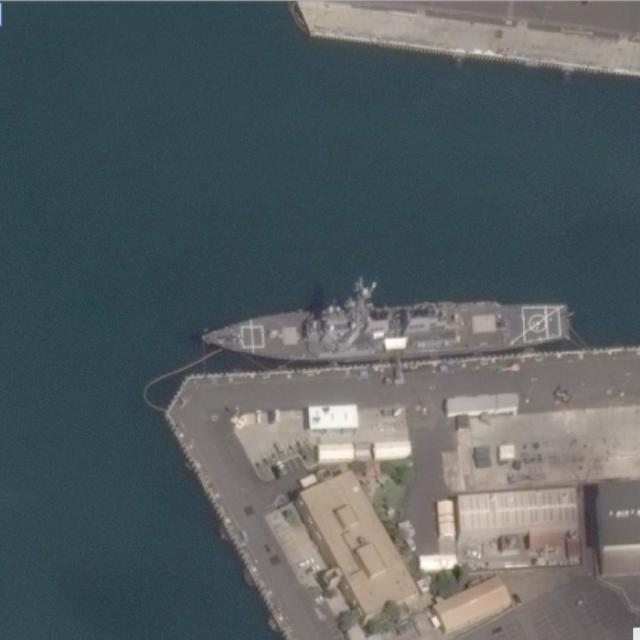Destroyer: (201, 295, 568, 368)
